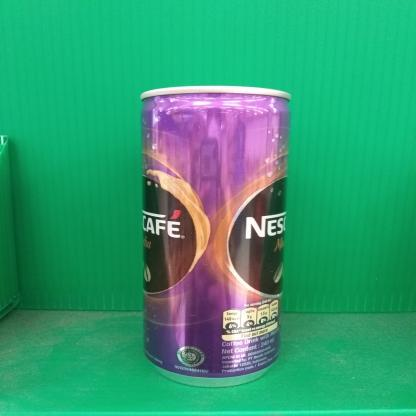mouse: (129, 80, 295, 392)
